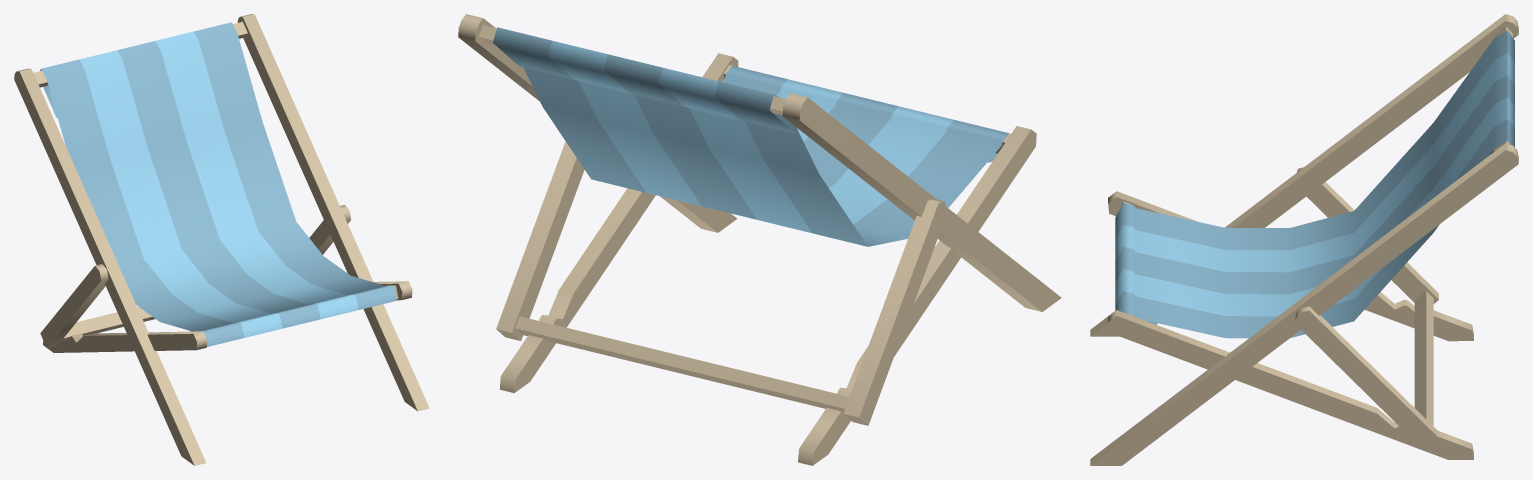
File: BeachChair_Blue.fbx
3 views of the same model, side by side, from view 1: azimuth 30°, elevation 25°; view 2: azimuth 150°, elevation 25°; view 3: azimuth 270°, elevation 25° (orthographic). The views are drawn at different scales.
Parts seen in each view (by area): view 1: BeachChair_Blue; view 2: BeachChair_Blue; view 3: BeachChair_Blue.
Boxes of the visible parts, x1,y1,x2,y2 form: BeachChair_Blue: (14,14,429,465); BeachChair_Blue: (458,14,1061,465); BeachChair_Blue: (1090,14,1518,465).
Size of the model in its own units: 117 by 119 by 146.
